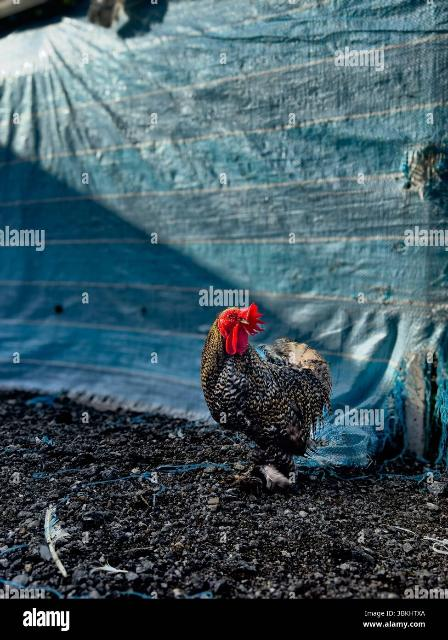Chicken: (198, 303, 334, 491)
